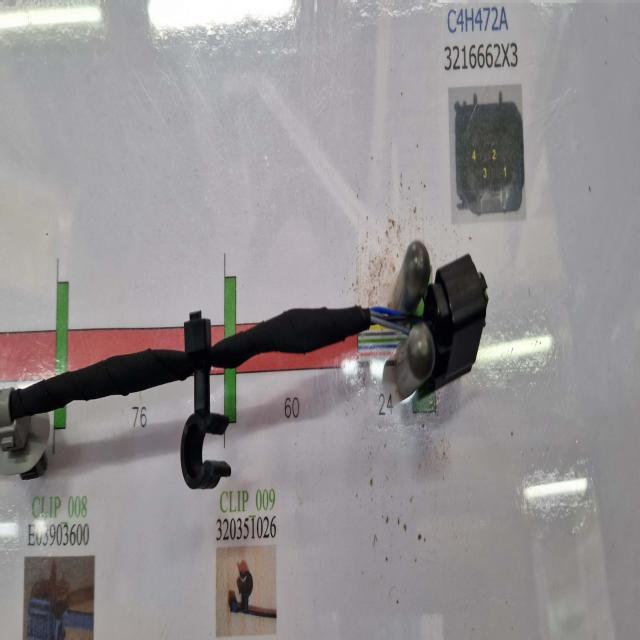Clip: (181, 308, 232, 490), (0, 388, 49, 478)
Connector: (420, 249, 489, 399)
Gape: (355, 283, 429, 377)
MHEV_N11_Cable: (13, 344, 194, 420), (206, 305, 371, 370)
